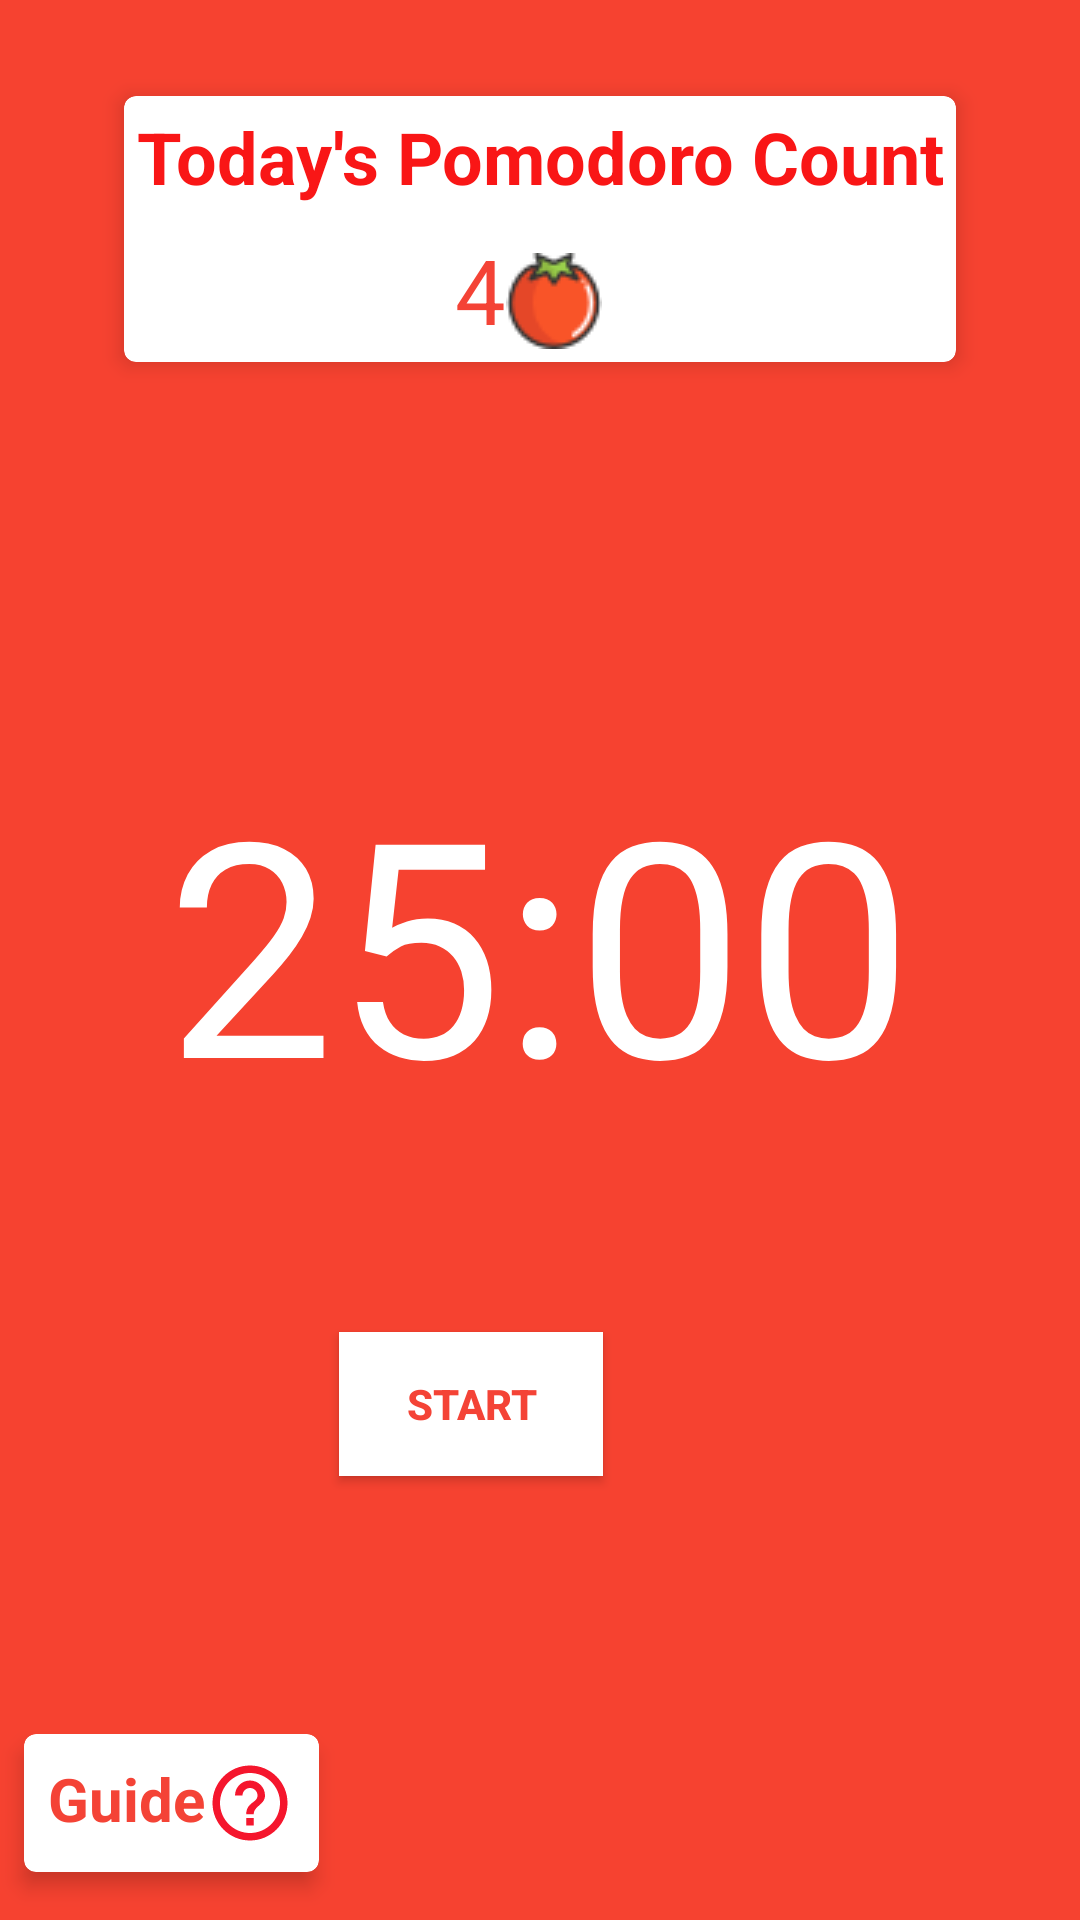

Screen size 1080w x 1920h. Icon name, then its center in pixels as (x,y):
tomato: (554,301)
